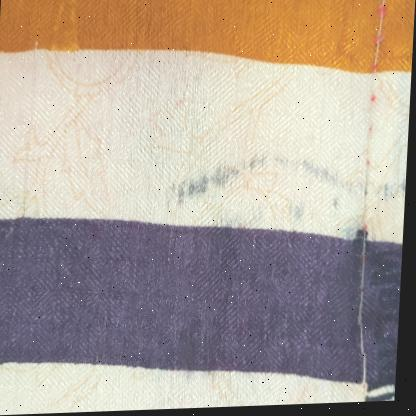spot: (169, 176, 201, 211), (247, 153, 278, 179), (301, 161, 332, 186), (222, 161, 244, 196), (200, 163, 223, 193), (380, 186, 408, 209), (328, 176, 346, 198), (328, 196, 342, 215), (289, 208, 303, 221), (279, 159, 291, 171), (329, 178, 330, 180)
